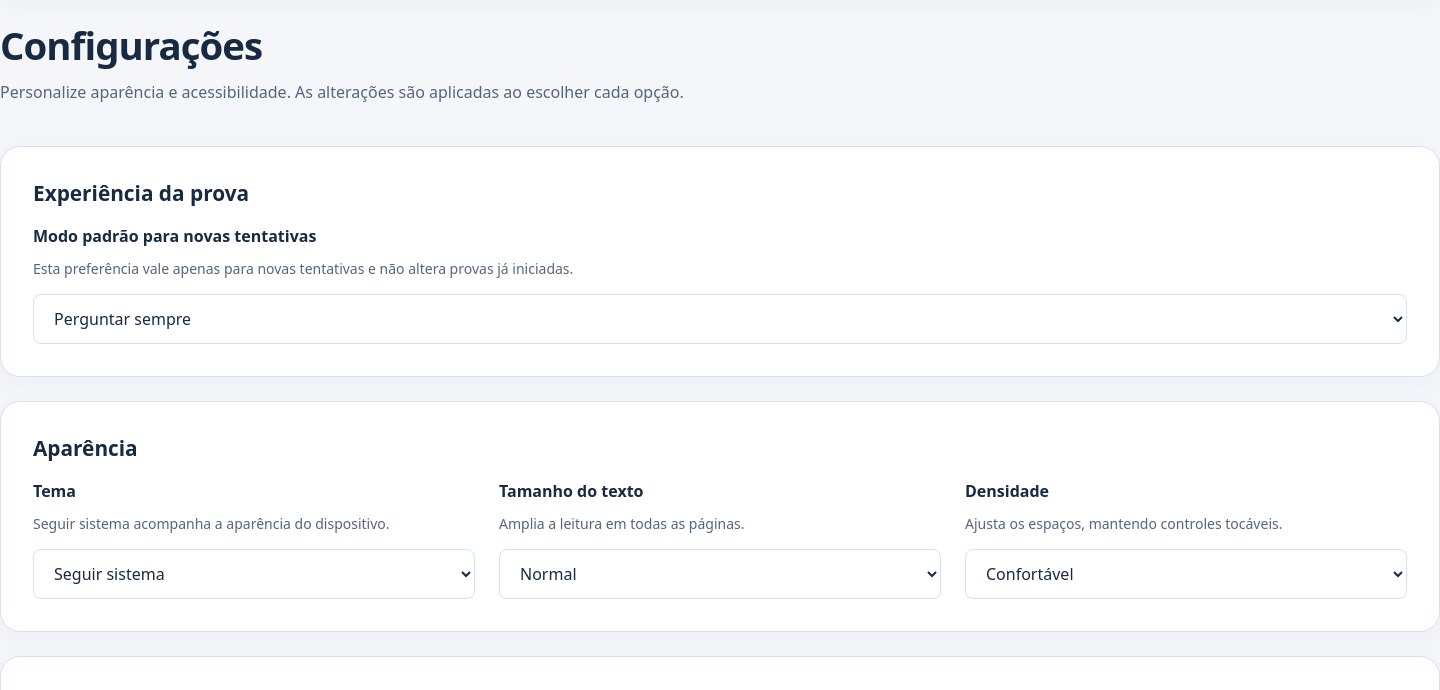
Test: configurações e primeiro uso opcional › UI corrompida preservada enquanto escolhas funcionam na sessão
Select "Escuro" in the dropdown labelled "Tema": (254, 574) [33,549,475,599]
(page scrolled)
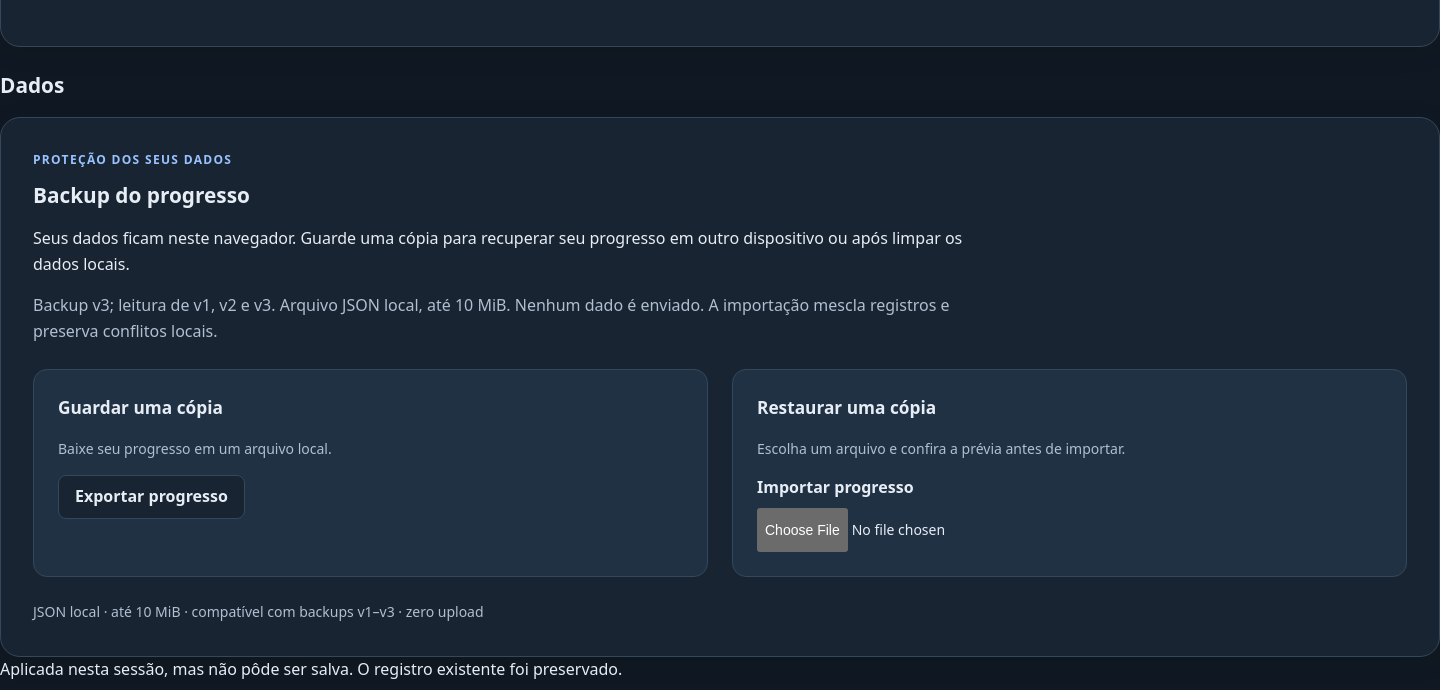
Now the message shows "registro existente foi preservado", box [0,658,622,680]
